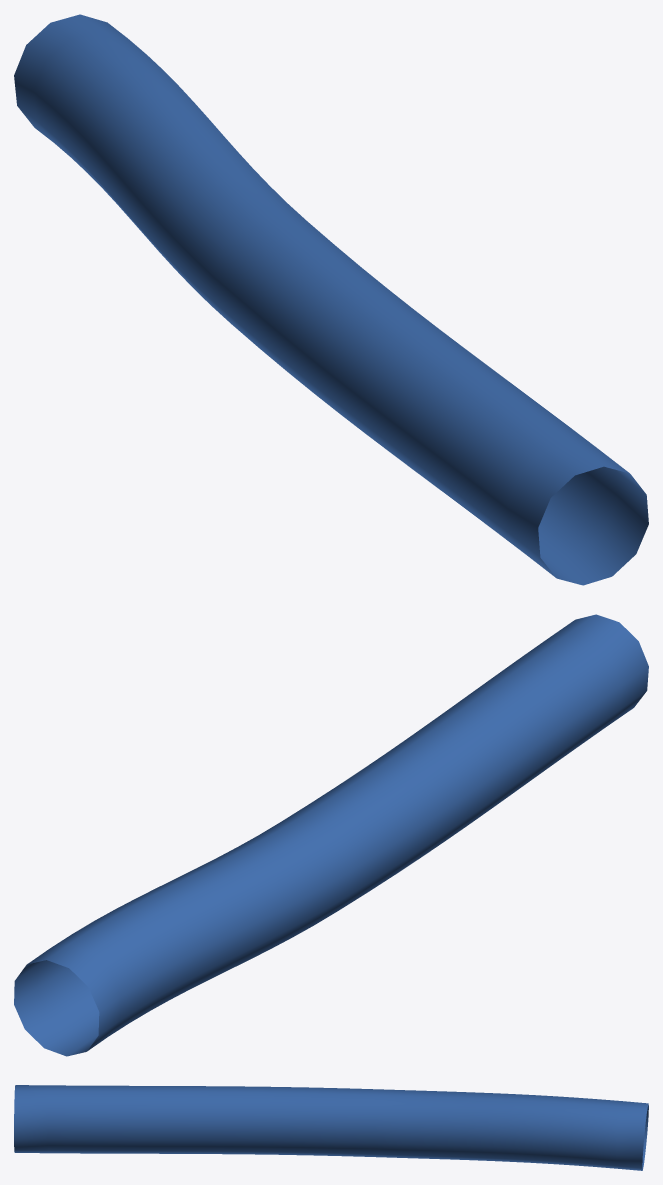
The picture shows the model from 3 angles, top to bottom: view 1: azimuth 30°, elevation 25°; view 2: azimuth 150°, elevation 25°; view 3: azimuth 270°, elevation 25°; orthographic projection. The views are drawn at different scales.
Visible parts, largest first — view 1: 肝门静脉; view 2: 肝门静脉; view 3: 肝门静脉.
Boxes of the visible parts, x1,y1,x2,y2 form: 肝门静脉: [14, 14, 648, 585]; 肝门静脉: [14, 614, 648, 1056]; 肝门静脉: [14, 1085, 648, 1170].
Bounding box in the file's own units: 0.0131 × 0.00832 × 0.0754.
